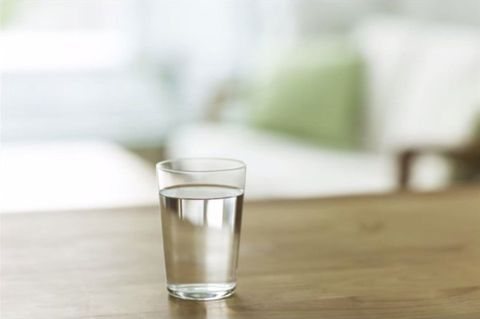glass of water: (162, 165, 233, 298)
